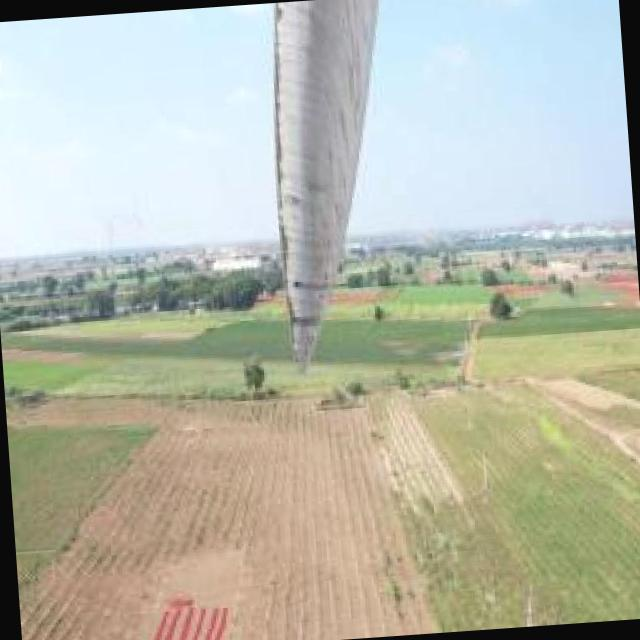Dirt: (279, 0, 384, 369)
Oil LEAKAGE: (274, 8, 330, 331)
Pin Hole: (289, 278, 301, 292)
